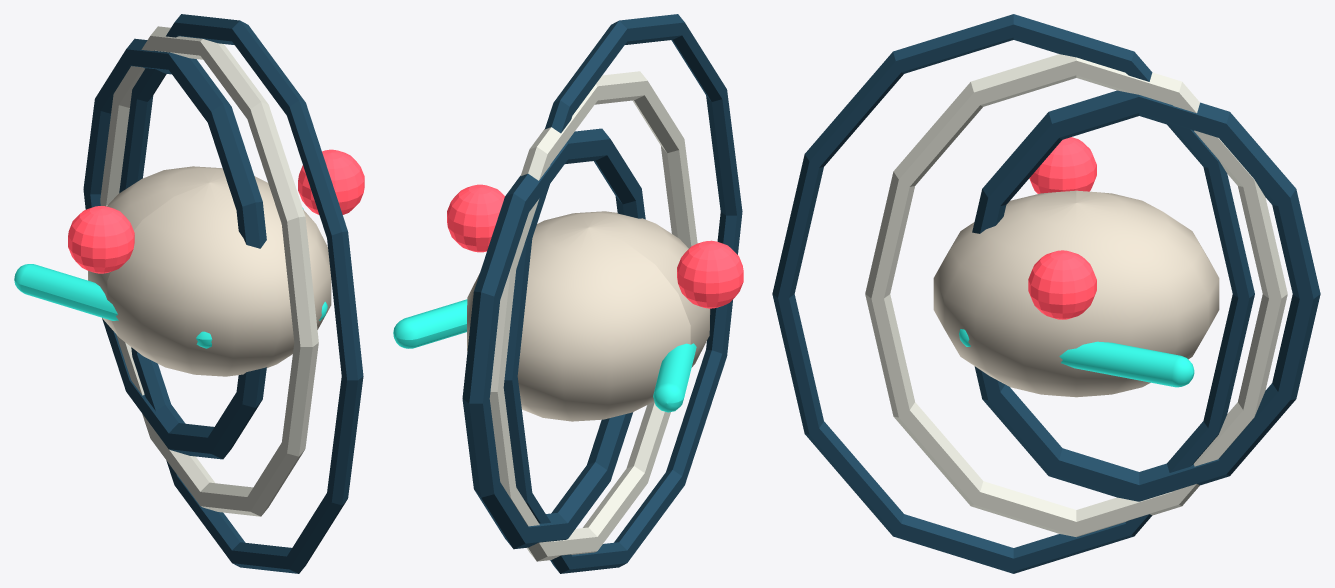
File: landmark-low.glb
3 views of the same model, side by side, from view 1: azimuth 30°, elevation 25°; view 2: azimuth 150°, elevation 25°; view 3: azimuth 270°, elevation 25° (orthographic). The views are drawn at different scales.
Parts seen in each view (by area): view 1: accent_static, motion-organ, porcelain_static, hazard_static, motion-conduit_-1; view 2: accent_static, motion-organ, porcelain_static, hazard_static, motion-conduit_1, motion-conduit_-1; view 3: accent_static, motion-organ, porcelain_static, hazard_static, motion-conduit_1.
Boxes of the visible parts, x1=… form: accent_static: x1=83, y1=14, x2=363, y2=573; motion-organ: x1=88, y1=166, x2=331, y2=376; porcelain_static: x1=100, y1=26, x2=318, y2=516; hazard_static: x1=68, y1=149, x2=364, y2=273; motion-conduit_-1: x1=14, y1=264, x2=212, y2=348; accent_static: x1=462, y1=14, x2=742, y2=573; motion-organ: x1=467, y1=211, x2=710, y2=421; porcelain_static: x1=489, y1=71, x2=697, y2=561; hazard_static: x1=447, y1=184, x2=743, y2=308; motion-conduit_1: x1=393, y1=299, x2=467, y2=348; motion-conduit_-1: x1=653, y1=343, x2=696, y2=412; accent_static: x1=772, y1=14, x2=1320, y2=573; motion-organ: x1=933, y1=190, x2=1219, y2=397; porcelain_static: x1=865, y1=54, x2=1287, y2=537; hazard_static: x1=1028, y1=137, x2=1096, y2=319; motion-conduit_1: x1=959, y1=329, x2=1194, y2=387.
Bounding box in the file's own units: 703 × 1275 × 1132.
